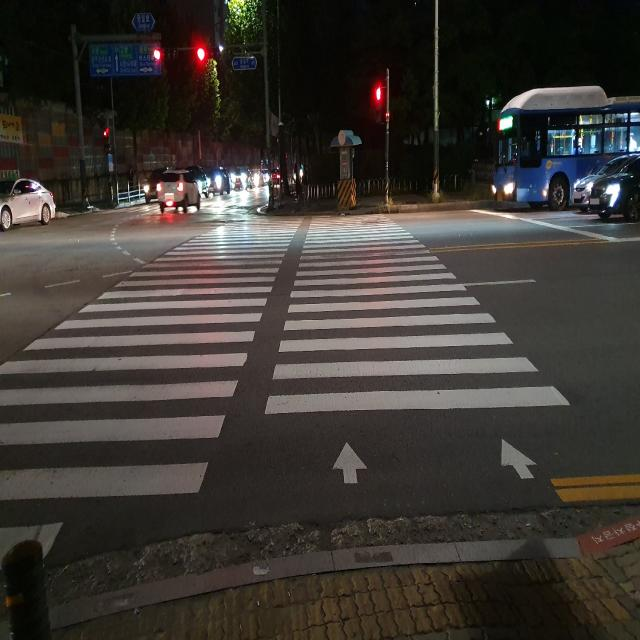빨간불: (374, 84, 385, 123)
횡단보도: (0, 210, 574, 569)
